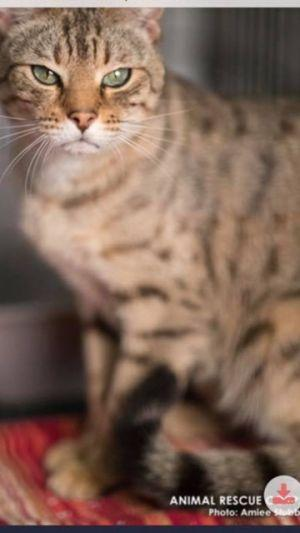bengal: (1, 1, 176, 174)
